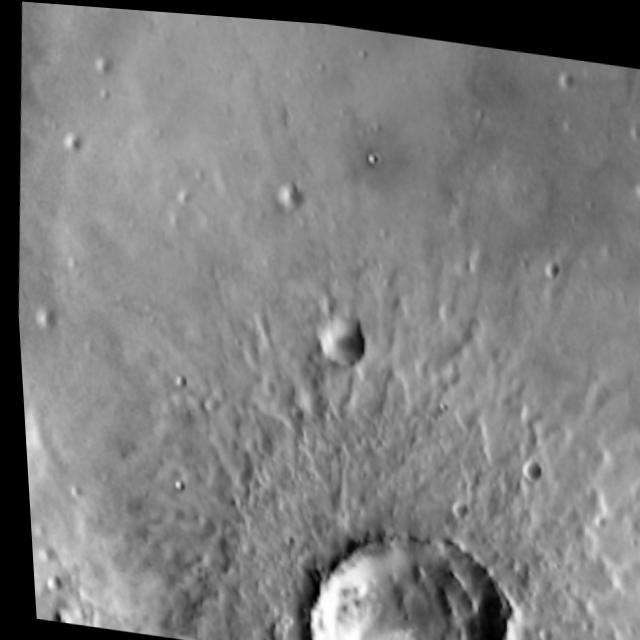Crater: (272, 492, 526, 640)
